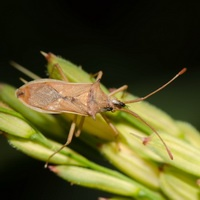insect: (11, 62, 186, 166)
